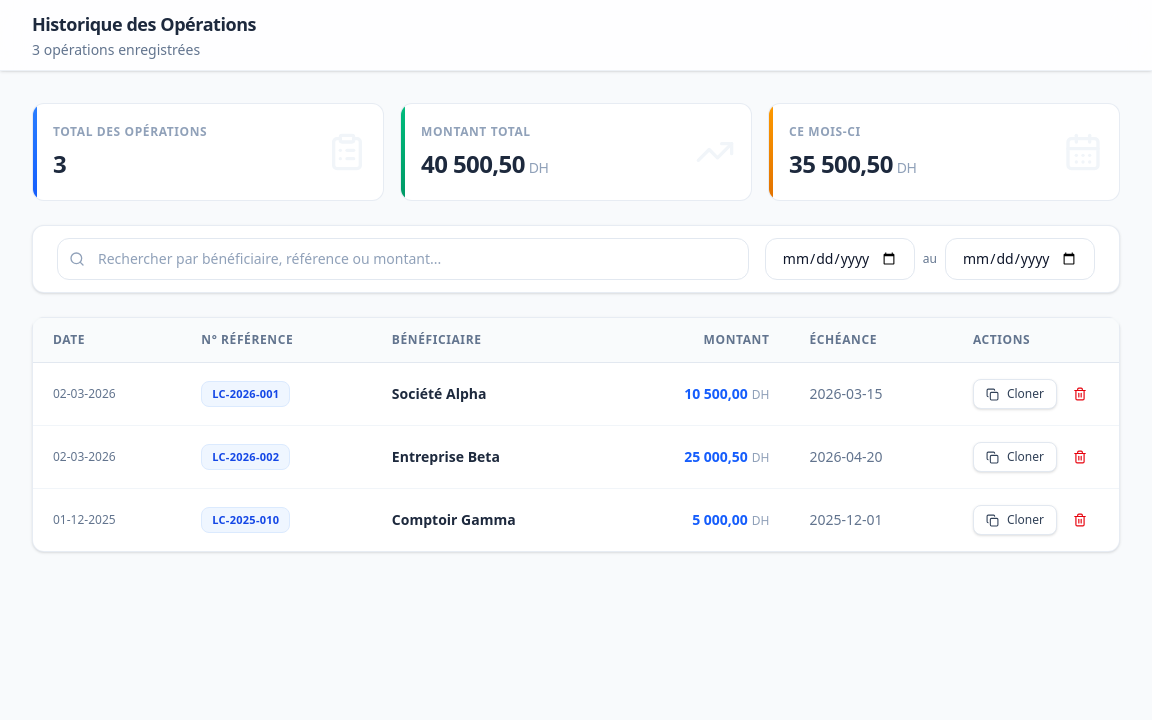
Test: HistoryPage › recherche et filtres › filtre par texte de recherche
expect the text "Société Alpha" is shown: met, box [392,384,486,403]
In the field with placeholder "Rechercher par bénéficiaire, référence ou montant...": (403, 259) [57,238,749,280], type "Alpha"
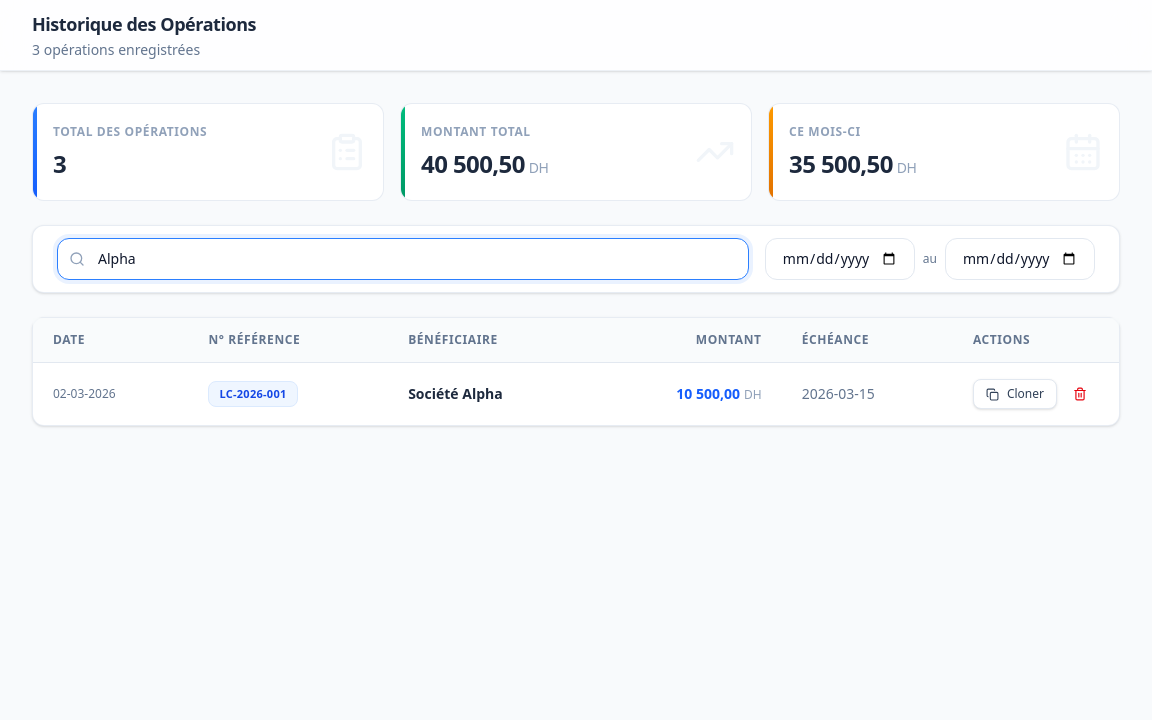
expect the text "Société Alpha" is shown: met, box [408,384,503,403]
expect the text "Entreprise Beta" is gone: met
